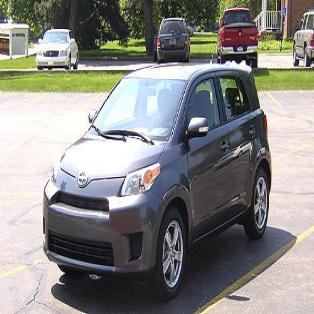Auto: (40, 60, 274, 301)
